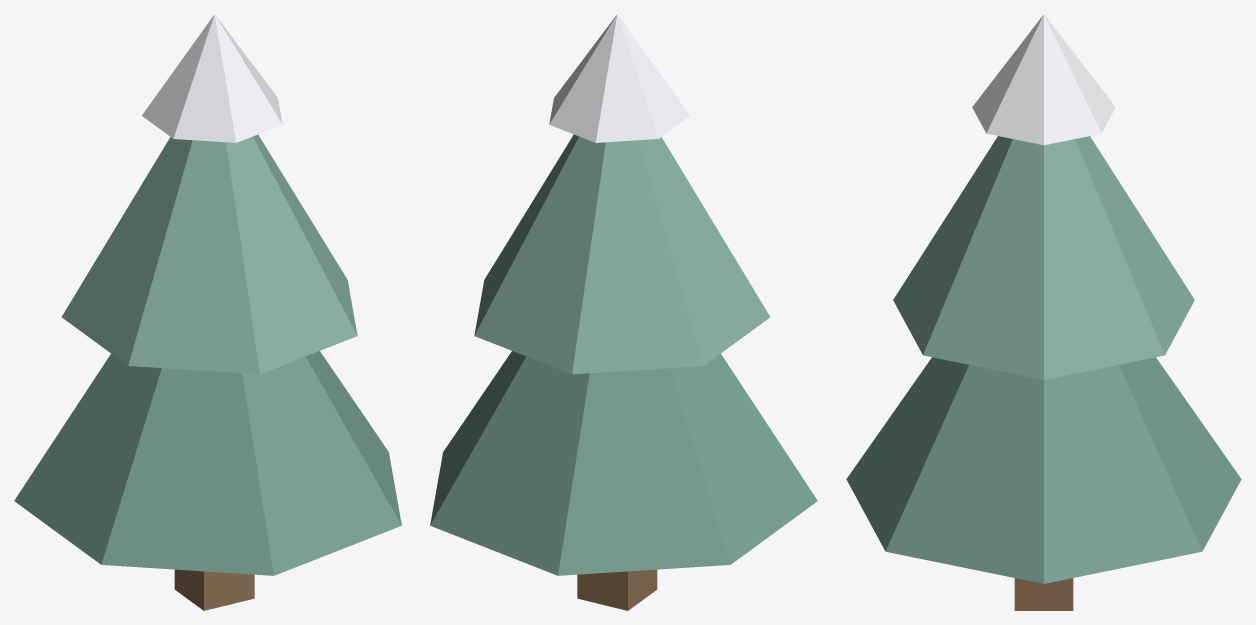
File: snow-pine.gltf
3 renders of one model, left to right at view 1: azimuth 30°, elevation 25°; view 2: azimuth 150°, elevation 25°; view 3: azimuth 270°, elevation 25°, orthographic.
Bounding box in the file's own units: 1.05 × 1.75 × 1.07.
